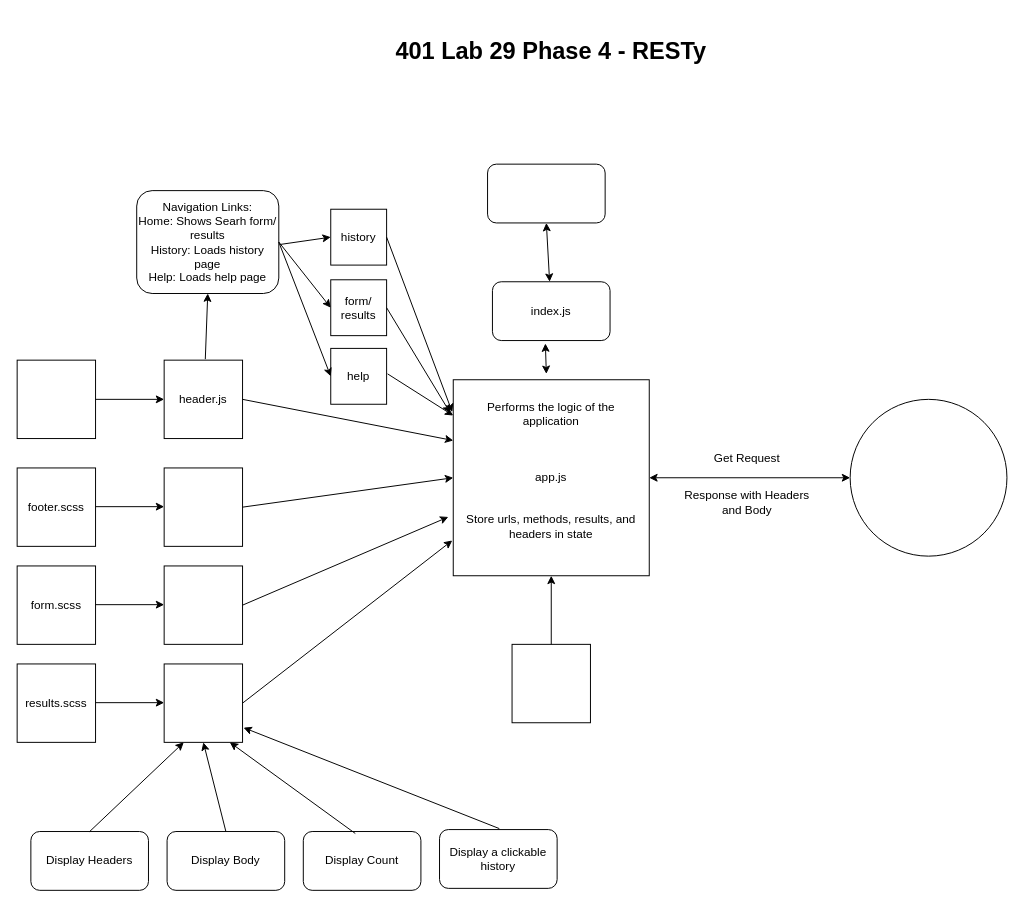
This 1024x907 diagram has some shape labels left out. The centre of each missing label's shape, as x and y in pixels:
API: the point at 928,477
app.scss: the point at 550,683
footer.js: the point at 203,506
form.js: the point at 203,604
header.scss: the point at 56,399
index.html: the point at 546,193
results.js: the point at 203,702
